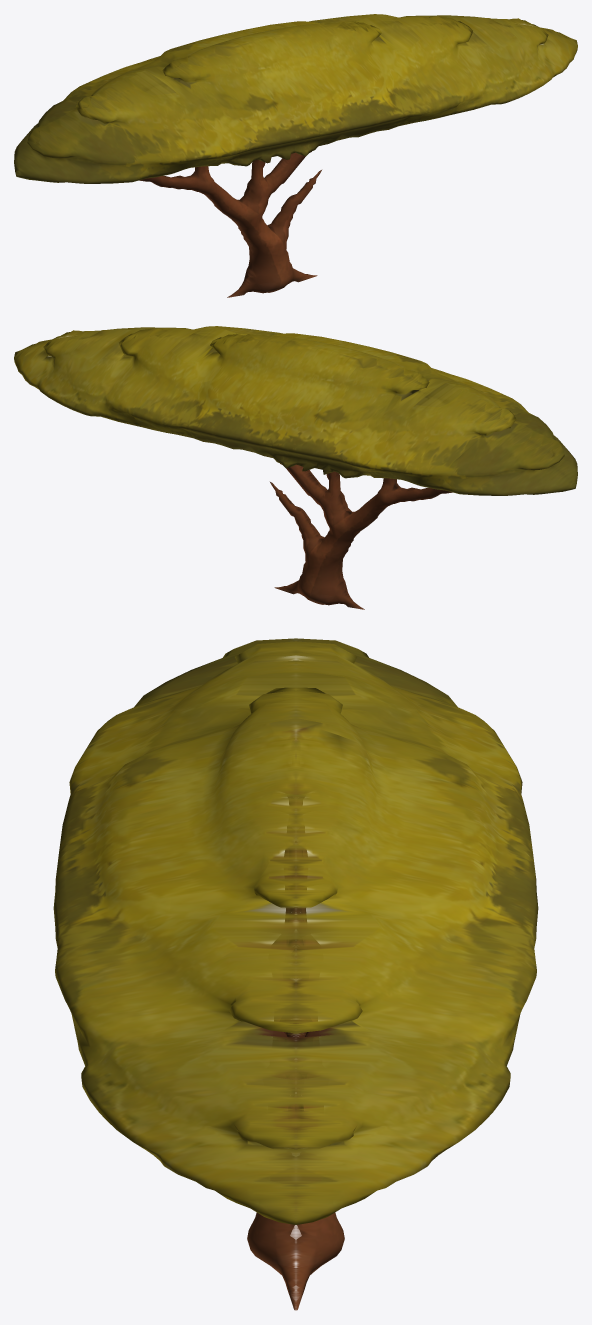
Rendered from 23_trees_b_r00_c00.glb.
The picture shows the model from 3 angles, top to bottom: view 1: azimuth 30°, elevation 25°; view 2: azimuth 150°, elevation 25°; view 3: azimuth 270°, elevation 25°; orthographic projection. The views are drawn at different scales.
Parts seen in each view (by area): view 1: 23_trees_b_r00_c00; view 2: 23_trees_b_r00_c00; view 3: 23_trees_b_r00_c00.
Boxes of the visible parts, box(x1,y1,x2,y2) form: 23_trees_b_r00_c00: box(14, 14, 577, 297); 23_trees_b_r00_c00: box(14, 326, 577, 609); 23_trees_b_r00_c00: box(53, 638, 538, 1310).
Size of the model in its own units: 13.11 by 5.58 by 4.91.
1 material, 1 textured.
